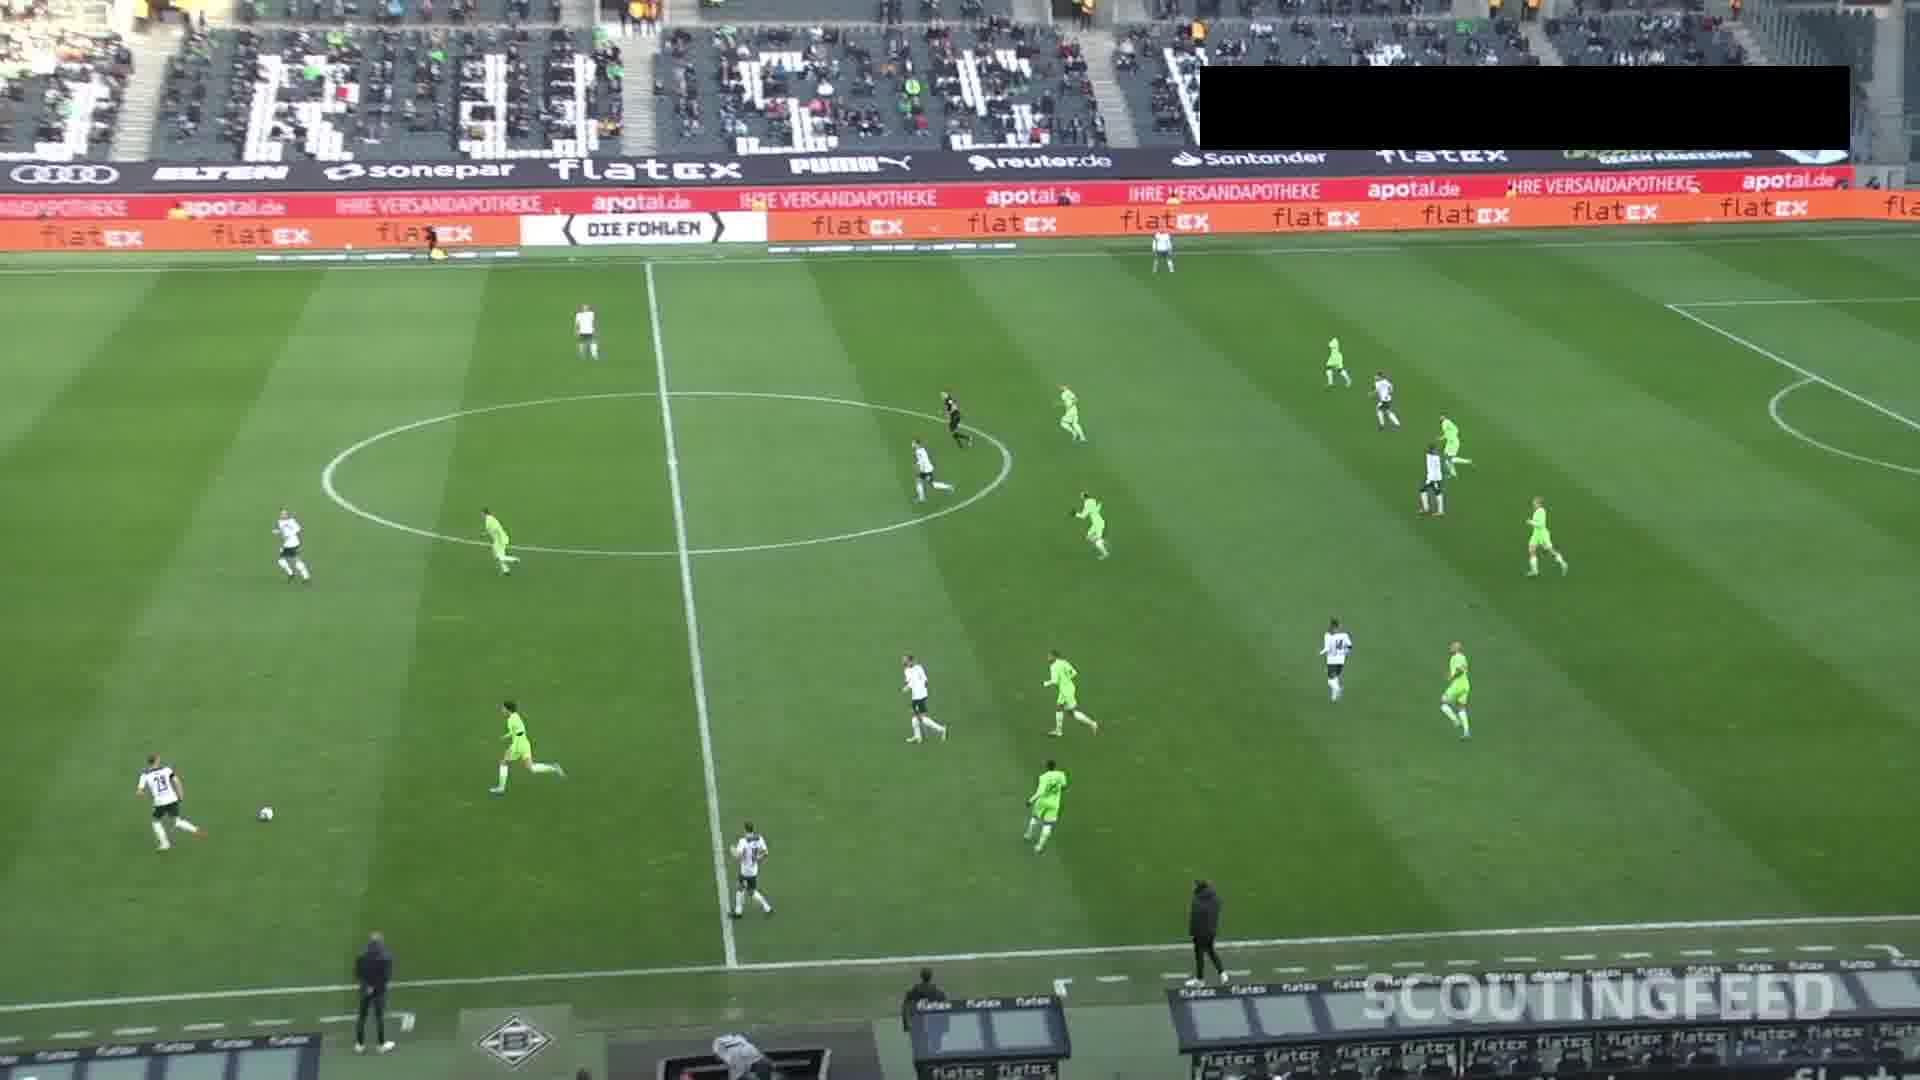football: (253, 803, 276, 823)
